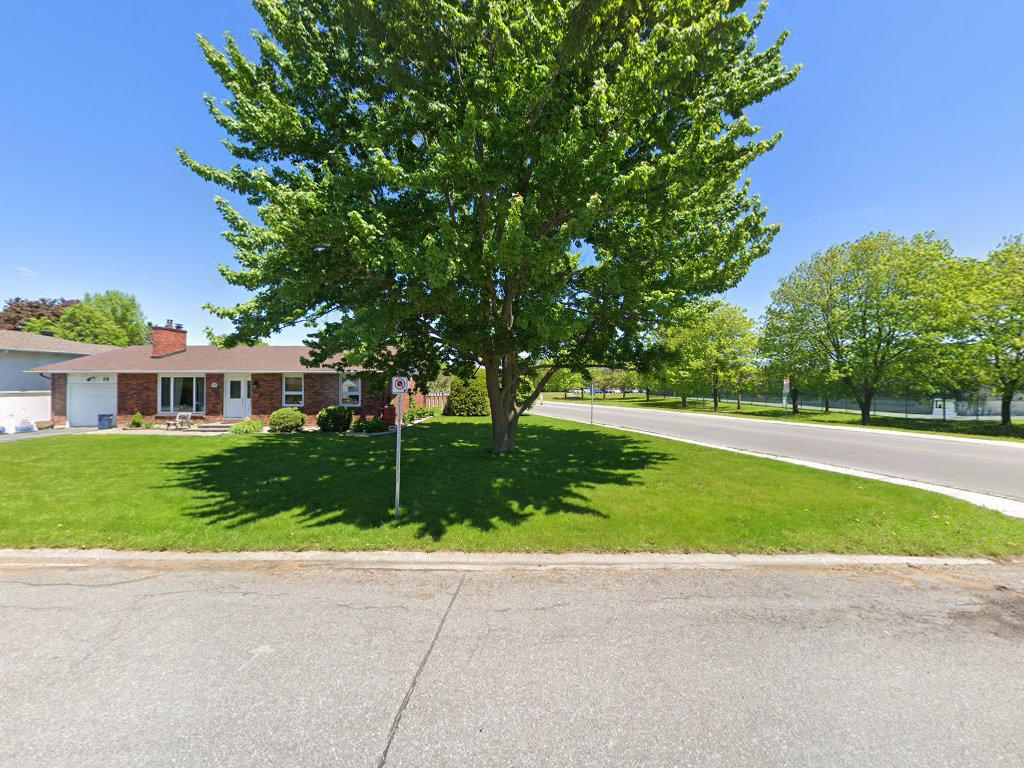trunk: (480, 344, 525, 462)
